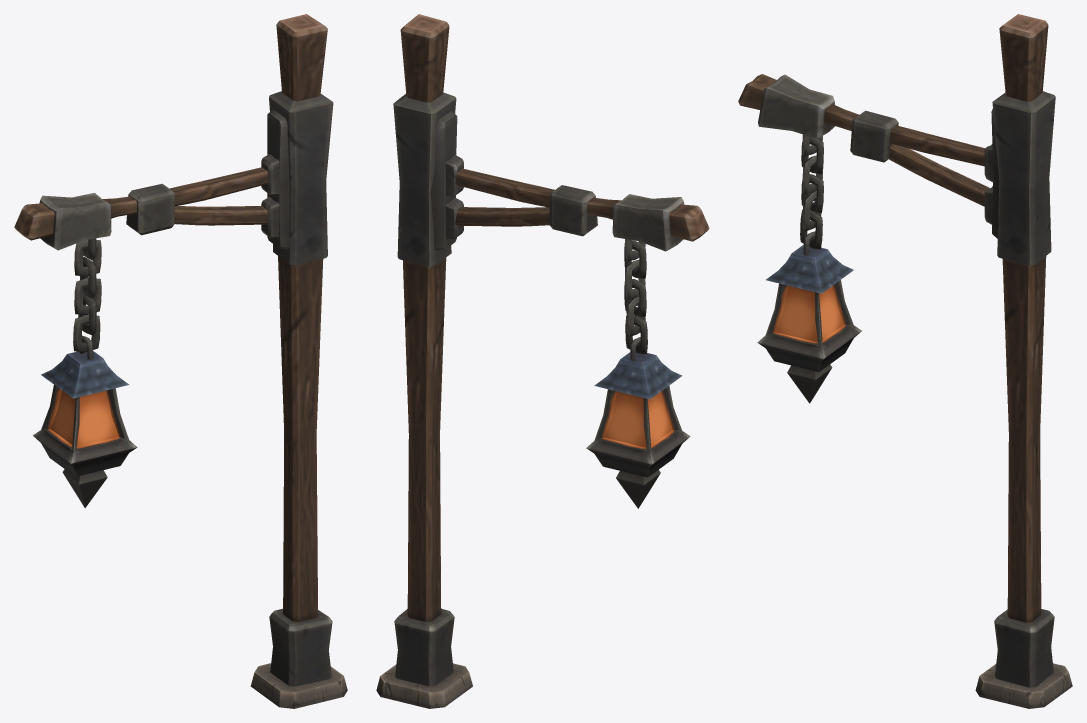
The model's file is Lty_ludeng.FBX.
The picture shows the model from 3 angles, left to right: view 1: azimuth 30°, elevation 25°; view 2: azimuth 150°, elevation 25°; view 3: azimuth 330°, elevation 25°; orthographic projection.
Visible parts, largest first — view 1: Mesh 2; view 2: Mesh 2; view 3: Mesh 2.
Part boxes in pixels (x1,y1,x2,y2): Mesh 2: (14,14,347,708); Mesh 2: (376,14,709,708); Mesh 2: (738,14,1072,708).
Size of the model in its own units: 222 by 452 by 48.78.
